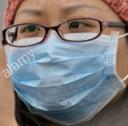with_mask: (1, 1, 128, 126)
